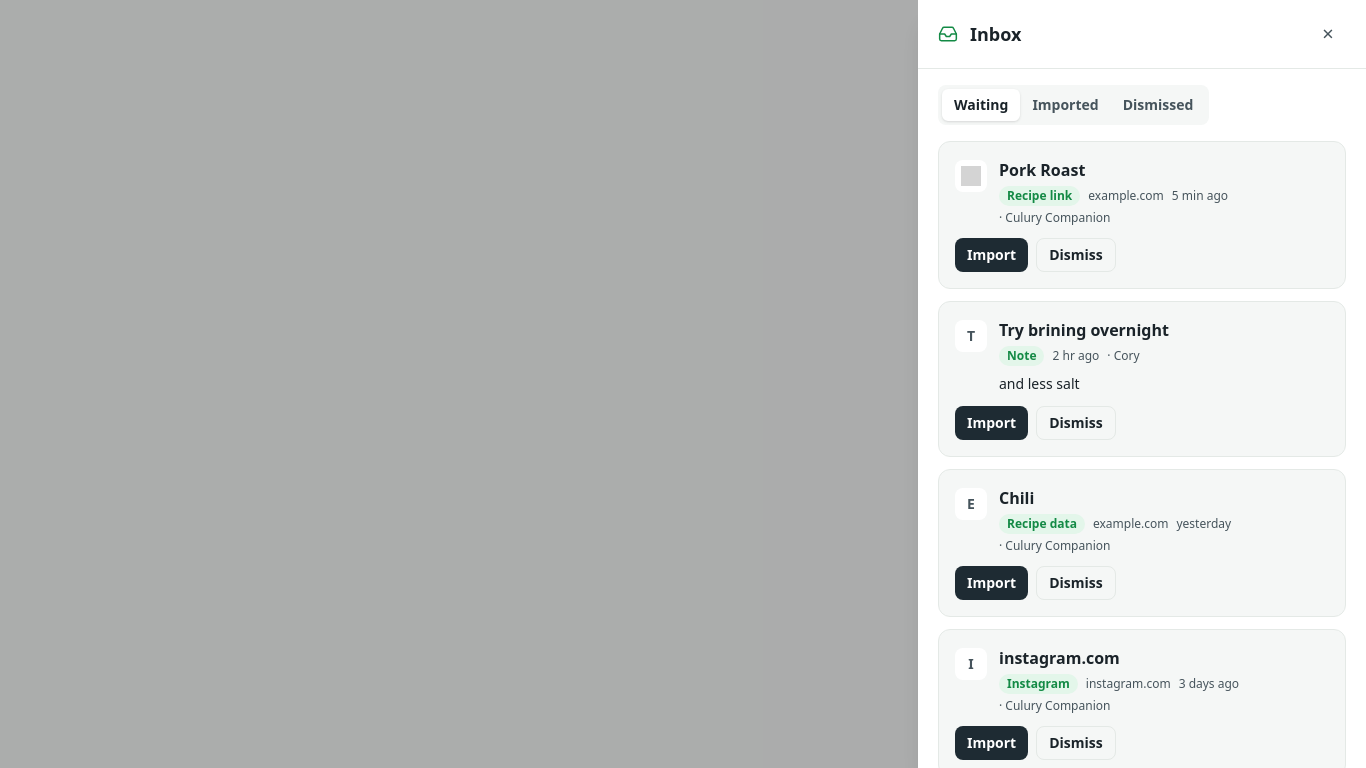
Scenario: the inbox drawer › Delete removes a dismissed item for good
Click the tab "Dismissed" at [1158, 105], box [1111,89,1205,121]
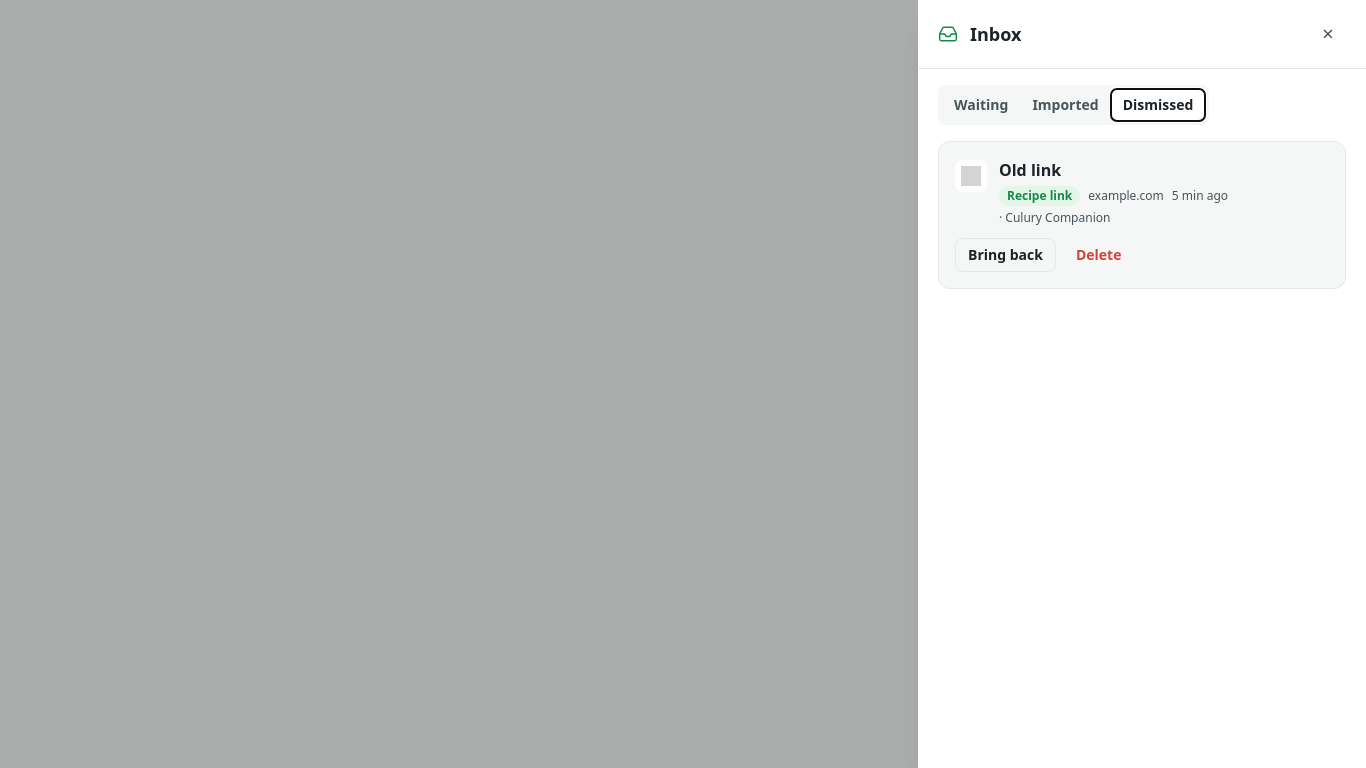
Click the button "Delete" at [1099, 255], box [1064,238,1133,272]
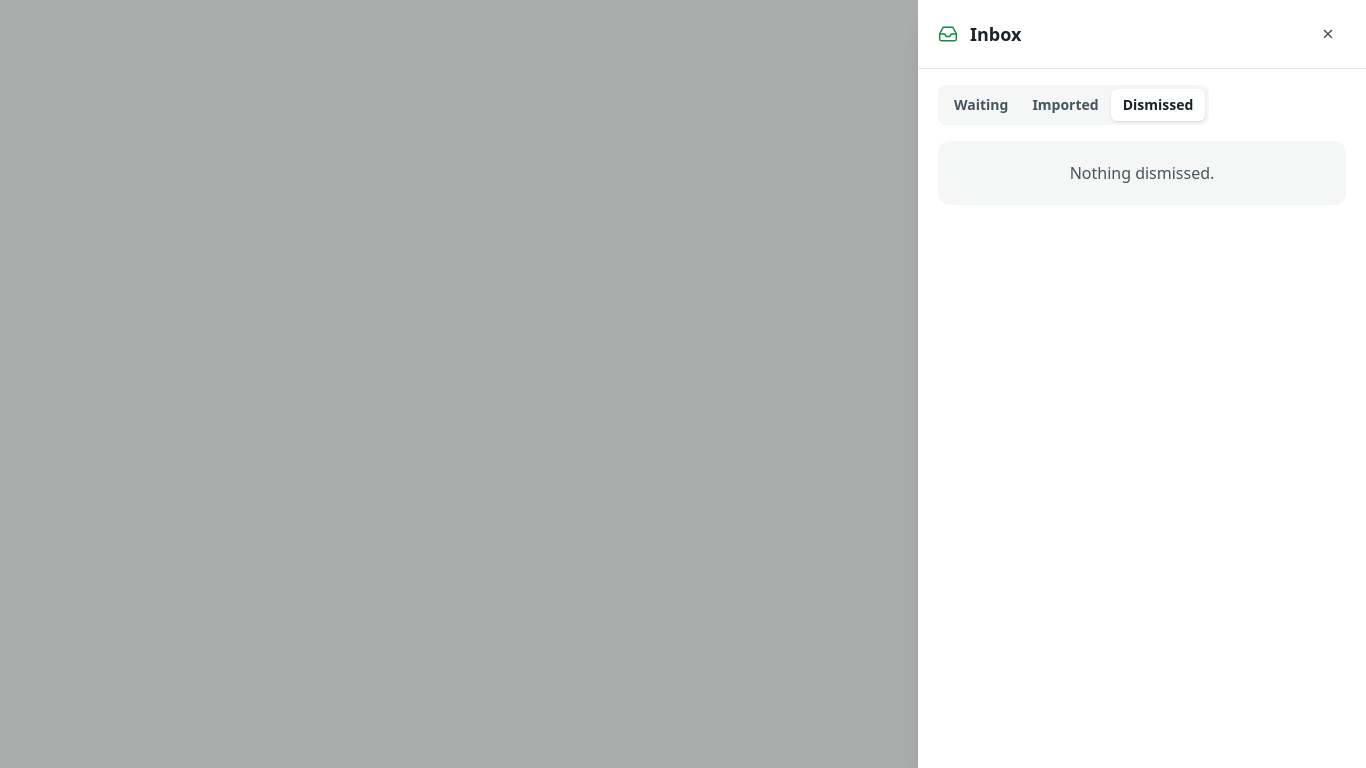
Now the text "Nothing dismissed." is shown, box [1070,162,1214,184]
